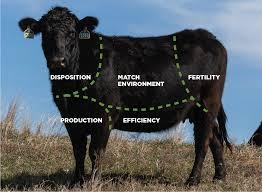cow: (18, 6, 228, 190)
